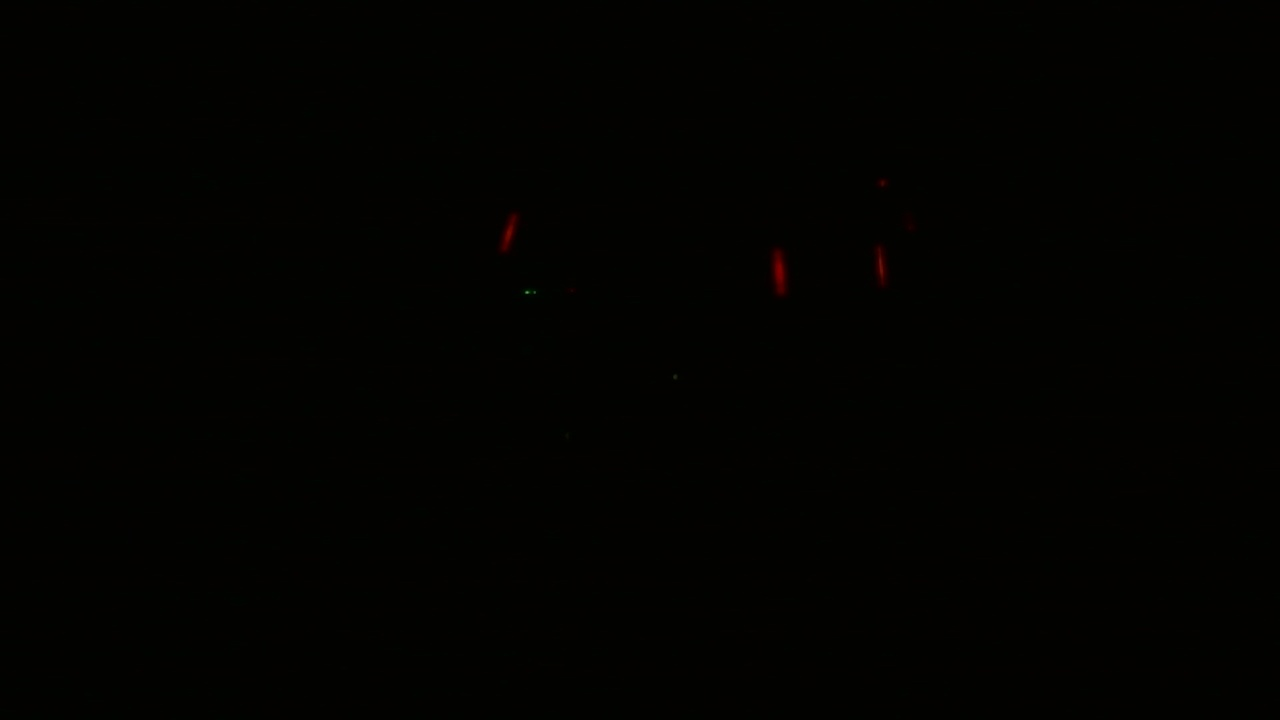pair1: (771, 239, 887, 296)
